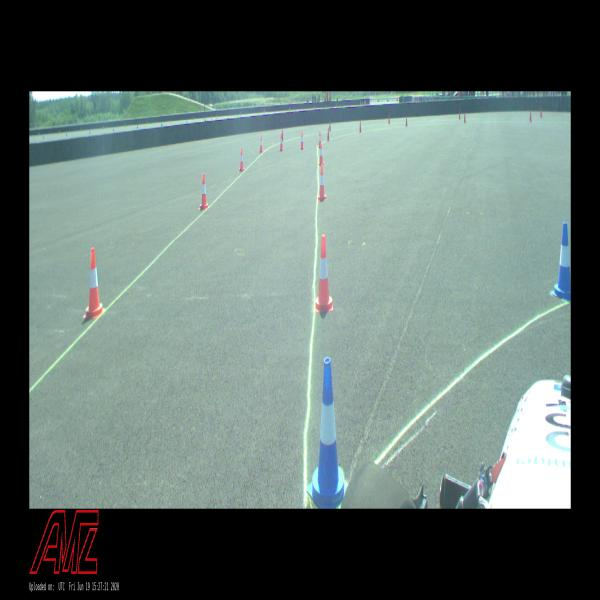blue_cone: (307, 357, 347, 508), (551, 222, 570, 301)
orange_cone: (83, 248, 105, 318), (315, 234, 333, 312), (199, 174, 209, 209), (318, 164, 326, 200), (318, 143, 324, 165), (239, 148, 244, 172), (259, 135, 263, 153), (300, 132, 304, 149), (280, 134, 284, 150), (318, 131, 321, 148)
unknown_cone: (327, 127, 330, 141), (360, 120, 362, 133), (329, 120, 331, 132), (530, 110, 532, 122), (388, 113, 390, 124), (464, 112, 466, 123), (540, 107, 542, 118), (282, 128, 283, 142), (406, 116, 407, 127), (459, 109, 460, 120)
